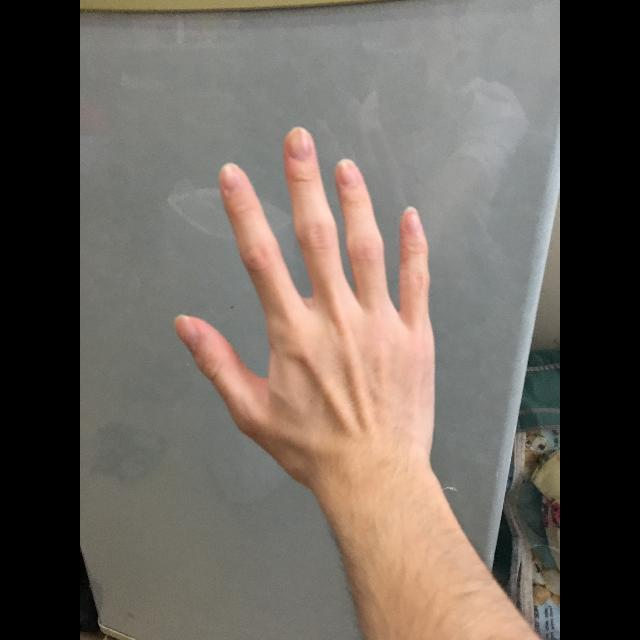bare_hand: (173, 123, 442, 481)
